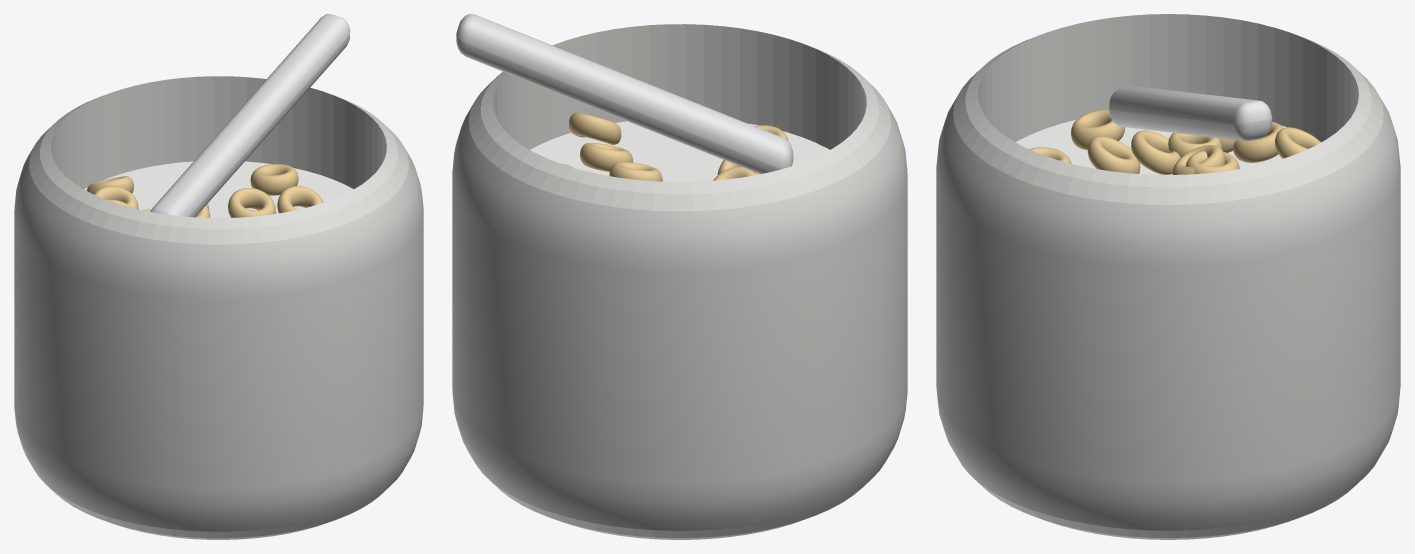
The model's file is cereal_bowl.glb.
3 views of the same model, side by side, from view 1: azimuth 30°, elevation 25°; view 2: azimuth 150°, elevation 25°; view 3: azimuth 270°, elevation 25° (orthographic). The views are drawn at different scales.
Visible parts, largest first — view 1: Cylinder.002, Cube.001, Cylinder.003, Torus.015, Torus.018, Torus.022, Torus.023, Torus.027; view 2: Cylinder.002, Cube.001, Cylinder.003, Torus.014, Torus.022, Torus.018; view 3: Cylinder.002, Cube.001, Cylinder.003, Torus.016, Torus.026, Torus.021, Torus.023, Torus.027, Torus.020, Torus.017, Torus.024.
Part boxes in pixels (x1,y1,x2,y2): Cylinder.002: (14, 76, 423, 539); Cube.001: (150, 14, 350, 217); Cylinder.003: (84, 161, 353, 217); Torus.015: (250, 164, 298, 195); Torus.018: (228, 188, 275, 217); Torus.022: (277, 186, 323, 213); Torus.023: (94, 186, 138, 209); Torus.027: (86, 176, 133, 194); Cylinder.002: (452, 24, 907, 539); Cube.001: (456, 14, 793, 174); Cylinder.003: (530, 121, 829, 181); Torus.014: (569, 112, 621, 144); Torus.022: (580, 143, 632, 171); Torus.018: (609, 162, 662, 181); Cylinder.002: (936, 14, 1400, 539); Cube.001: (1108, 86, 1272, 141); Cylinder.003: (1016, 120, 1286, 174); Torus.016: (1131, 130, 1180, 174); Torus.026: (1087, 136, 1140, 173); Torus.021: (1071, 110, 1124, 150); Torus.023: (1233, 122, 1283, 162); Torus.027: (1275, 127, 1320, 158); Torus.020: (1172, 145, 1225, 174); Torus.017: (1168, 133, 1222, 157); Torus.024: (1185, 151, 1239, 173).
Size of the model in its own units: 3.4 by 3.59 by 3.4.
